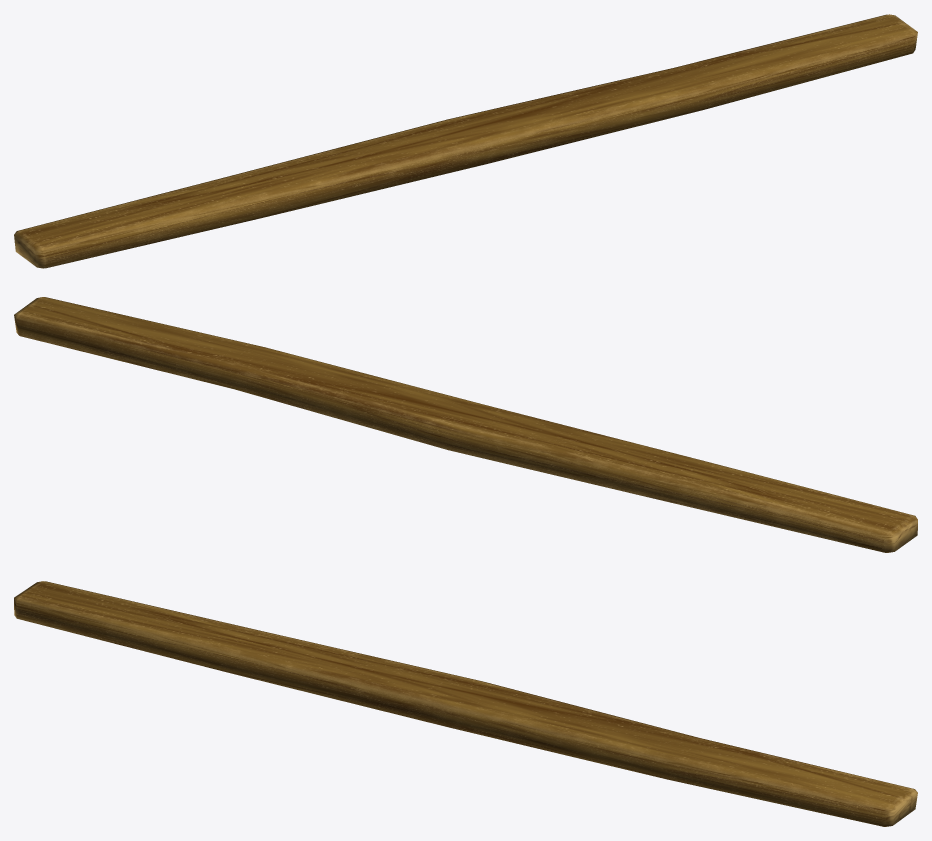
File: Plank2.fbx
The picture shows the model from 3 angles, top to bottom: view 1: azimuth 30°, elevation 25°; view 2: azimuth 150°, elevation 25°; view 3: azimuth 330°, elevation 25°; orthographic projection.
Parts seen in each view (by area): view 1: Plank2_LOD0; view 2: Plank2_LOD0; view 3: Plank2_LOD0.
Part boxes in pixels (x1,y1,x2,y2): Plank2_LOD0: (14,14,917,268); Plank2_LOD0: (14,297,917,552); Plank2_LOD0: (14,581,917,826).
Size of the model in its own units: 150 by 10.97 by 4.5.
1 material, 1 textured.
